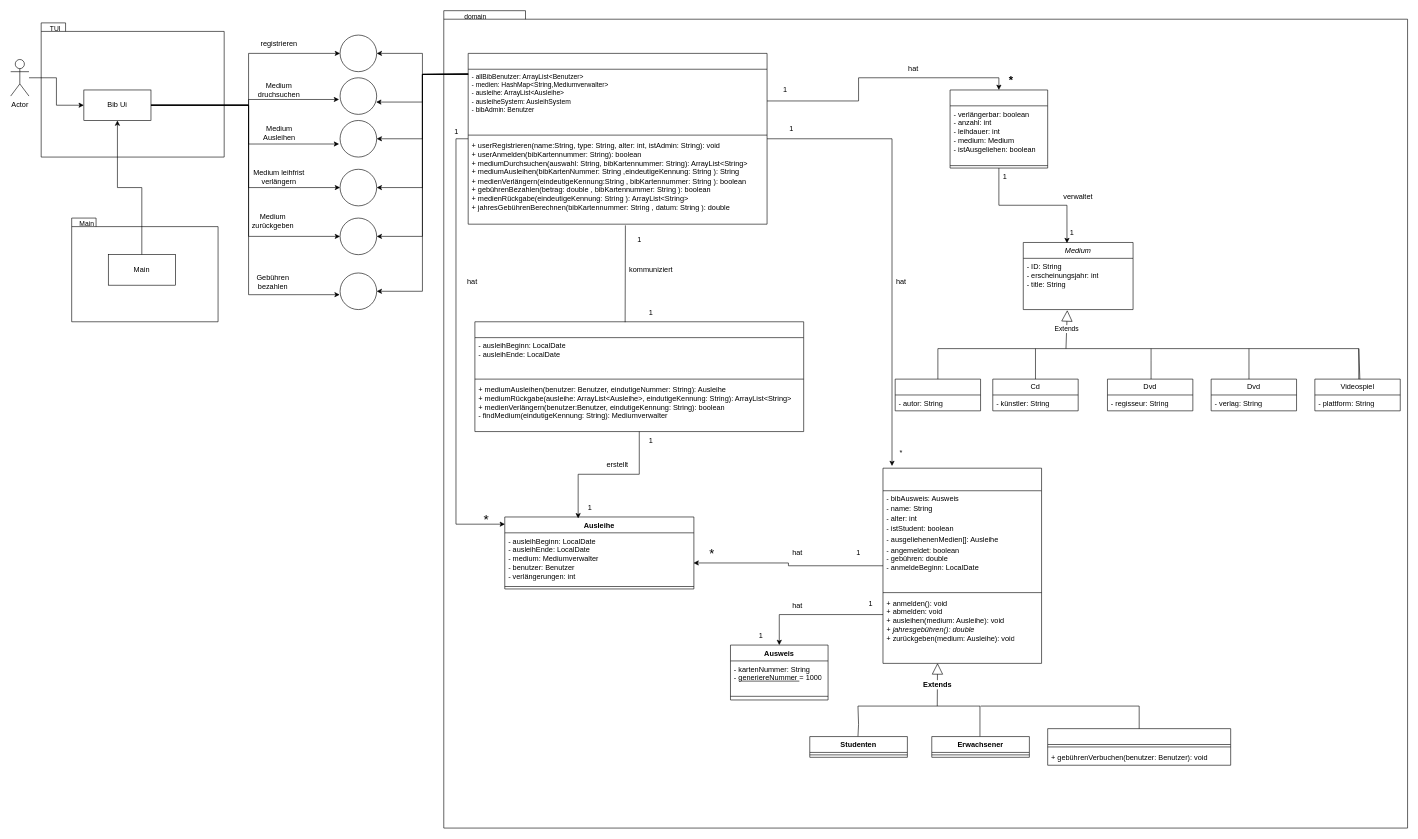
This 1418x839 diagram has some shape labels left out. Here are the shapes that lost their labels. From the top down, the box of each, then its label:
(468, 53, 767, 224): BibSystem
(949, 89, 1048, 168): Mediumverwalter
(474, 321, 804, 432): AusleihSystem
(895, 379, 981, 411): Buch
(882, 468, 1042, 663): Benutzer
(1047, 728, 1231, 765): Mitarbeiter
